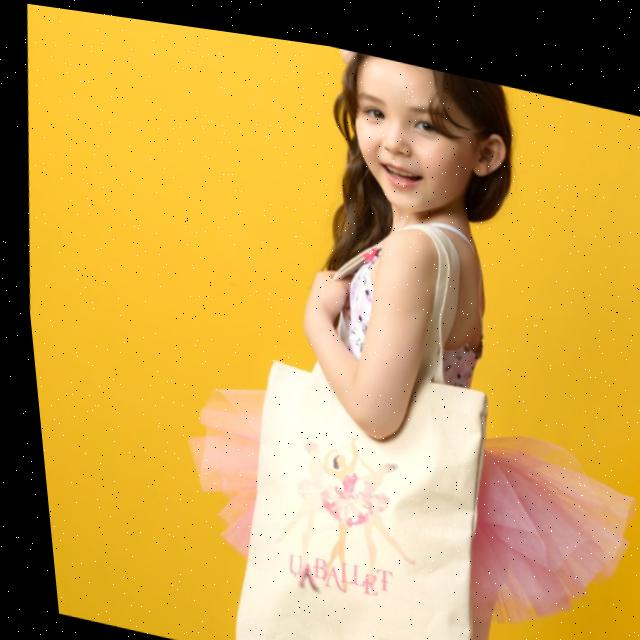ecobag: (169, 147, 520, 640)
